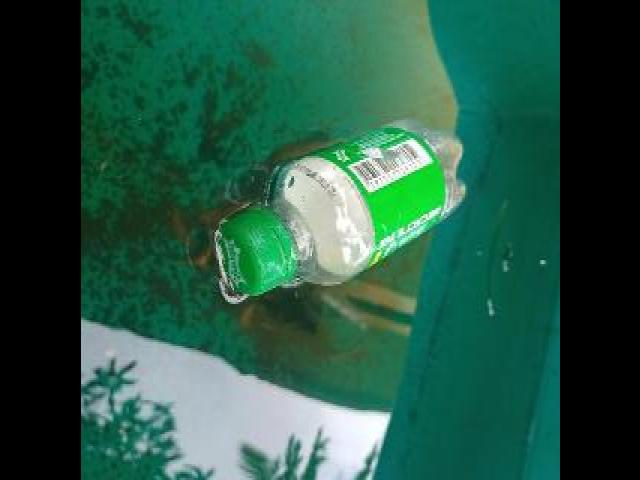Bottle: (209, 106, 472, 310)
